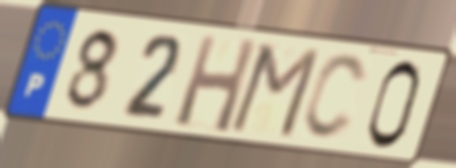0: (364, 58, 424, 152)
2: (118, 32, 184, 124)
8: (61, 26, 122, 114)
C: (299, 51, 369, 144)
H: (171, 32, 260, 137)
M: (225, 41, 325, 142)
